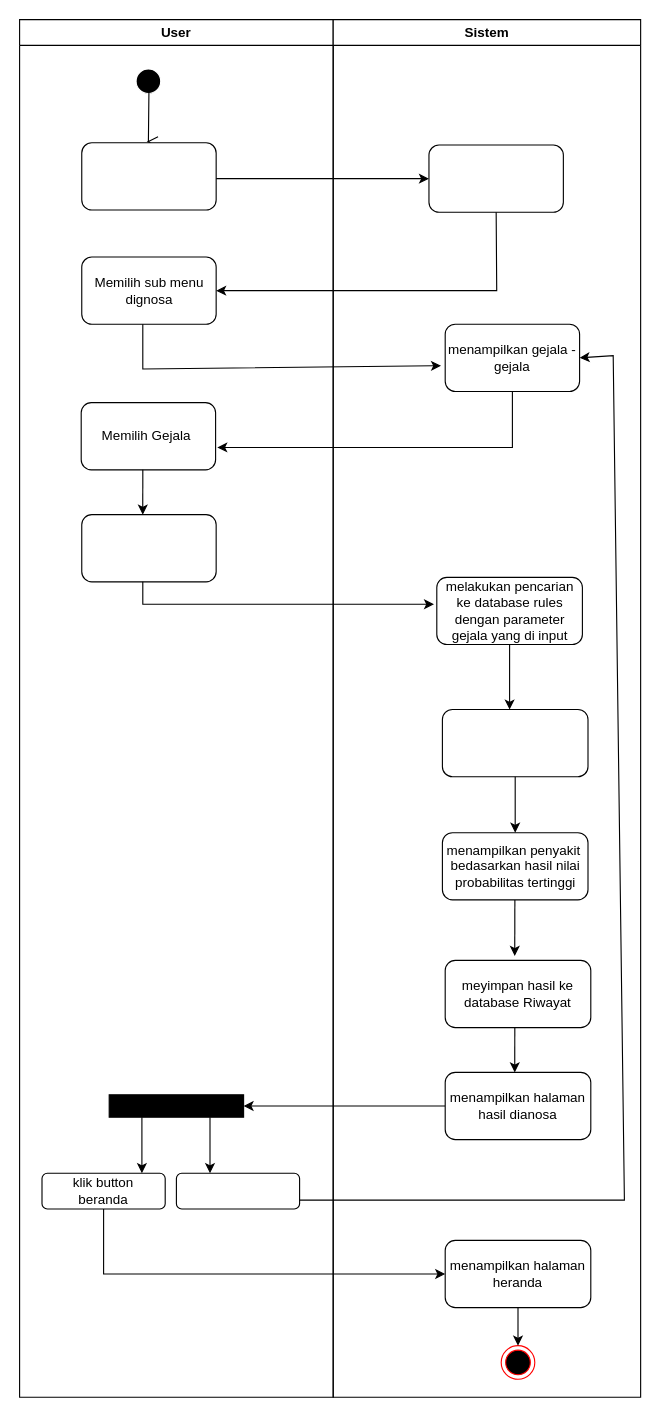
Some shapes in this 661 by 1417 pixel diagram are drawn without their labels. The box of each missing label's shape, as (x1, y1, x2, y2) in pixels:
klik button diagnosis: (175, 1172, 300, 1209)
klik button proses hasil diagnosa: (81, 514, 216, 582)
Klik Menu: (81, 142, 216, 210)
melakukan proses metode forward chaining: (441, 708, 588, 777)
Menampilkan Sub Menu: (428, 144, 563, 212)
